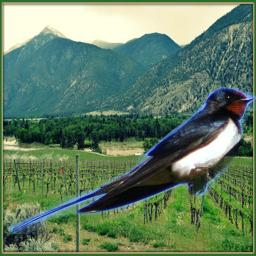Swallow: (7, 87, 256, 234)
